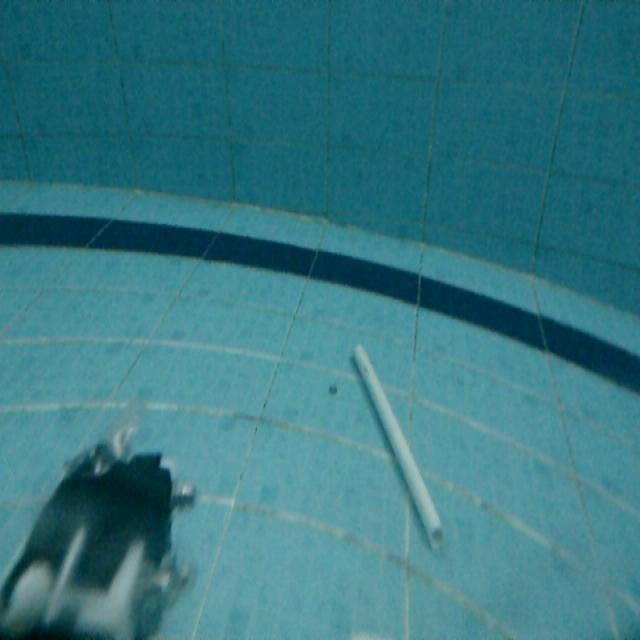Cube: (349, 340, 452, 550)
